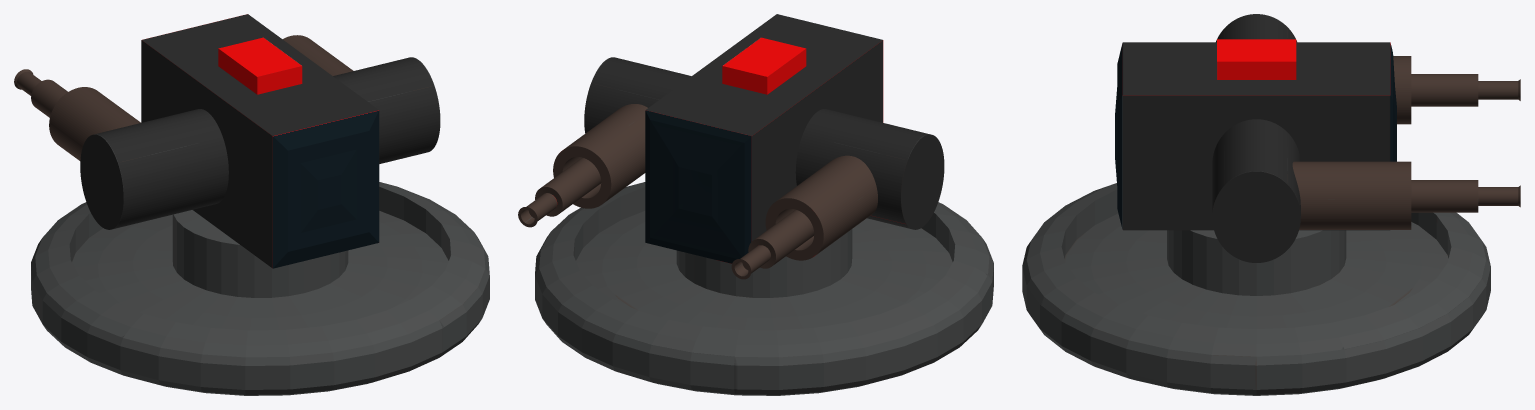
The model's file is Turret.fbx.
3 views of the same model, side by side, from view 1: azimuth 30°, elevation 25°; view 2: azimuth 150°, elevation 25°; view 3: azimuth 270°, elevation 25° (orthographic).
Parts seen in each view (by area): view 1: Turret; view 2: Turret; view 3: Turret.
Boxes of the visible parts, box(x1,y1,x2,y2) form: Turret: box(14, 14, 489, 395); Turret: box(518, 14, 993, 395); Turret: box(1022, 14, 1520, 395).
Size of the model in its own units: 200 by 213 by 130.
